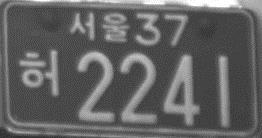1: (214, 53, 234, 132)
2: (118, 52, 160, 125), (76, 51, 117, 124)
3: (134, 10, 161, 45)
4: (160, 51, 201, 127)
7: (162, 11, 190, 48)
서울_O: (68, 10, 131, 43)
허: (18, 48, 62, 98)
